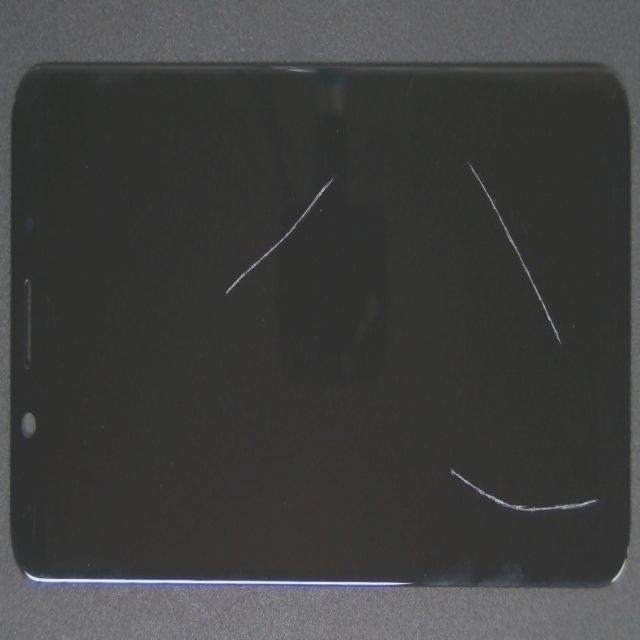scratch: (299, 276, 640, 640), (288, 210, 640, 509), (182, 77, 498, 247)
